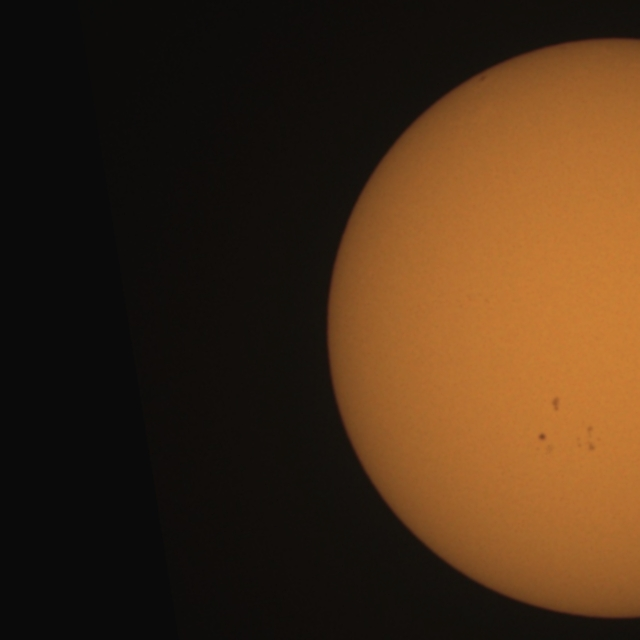sunspot: (574, 424, 602, 454), (550, 395, 561, 413), (538, 432, 548, 443)
